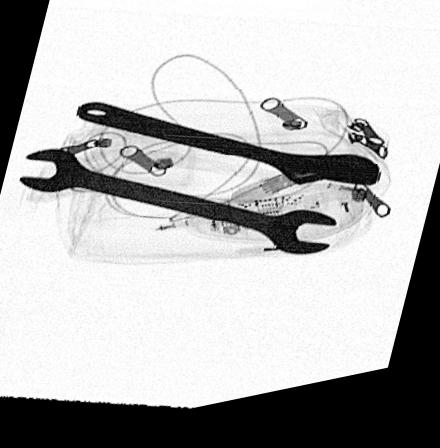Wrench: (17, 151, 340, 268), (74, 106, 383, 203)
